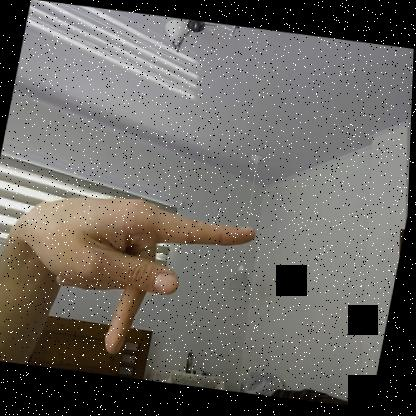P: (0, 180, 262, 376)
